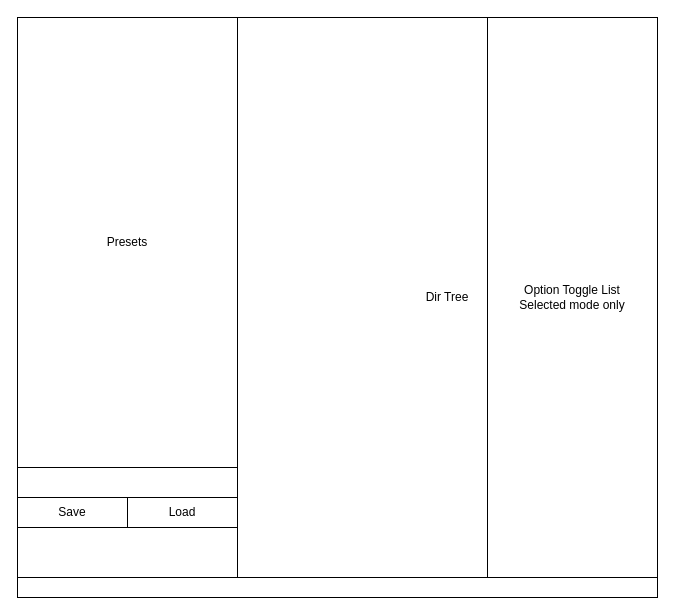
Some shapes in this 675 by 615 pixel diagram are drawn without their labels. The box of each missing label's shape, as (x1, y1, x2, y2) in pixels:
/user/preset.json: (16, 466, 238, 498)
Btn A: usage | Btn B: usage: (16, 576, 658, 598)
Search: (16, 526, 238, 578)
